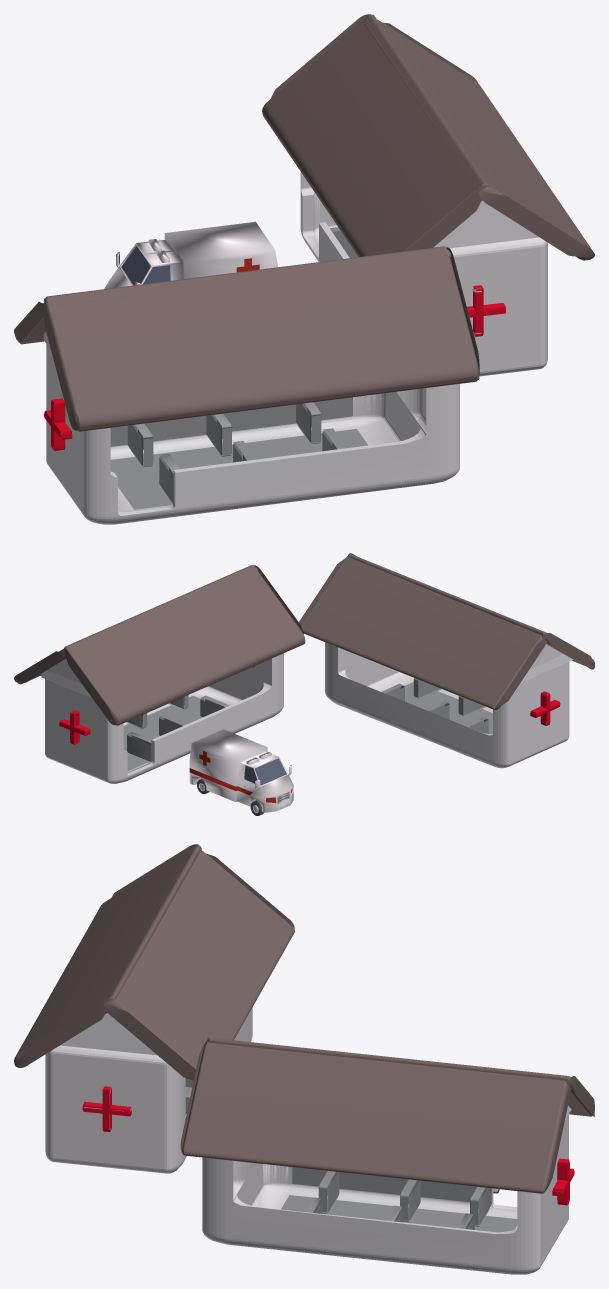
File: Hosptialambulance.glb
3 renders of one model, top to bottom at view 1: azimuth 30°, elevation 25°; view 2: azimuth 150°, elevation 25°; view 3: azimuth 270°, elevation 25°, orthographic. The views are drawn at different scales.
Visible parts, largest first — view 1: Hospital.001, Cube.832; view 2: Hospital.001, Cube.832; view 3: Hospital.001.
Part boxes in pixels (x1,y1,x2,y2): Hospital.001: [14, 14, 594, 524]; Cube.832: [104, 221, 277, 288]; Hospital.001: [14, 553, 594, 783]; Cube.832: [189, 729, 293, 815]; Hospital.001: [14, 844, 594, 1274].
Bounding box in the file's own units: 200 × 63.16 × 174.
2 materials, 2 textured.
